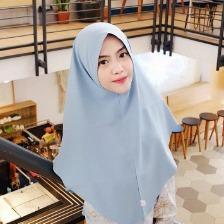HijabSyar-i: (48, 21, 188, 224)
